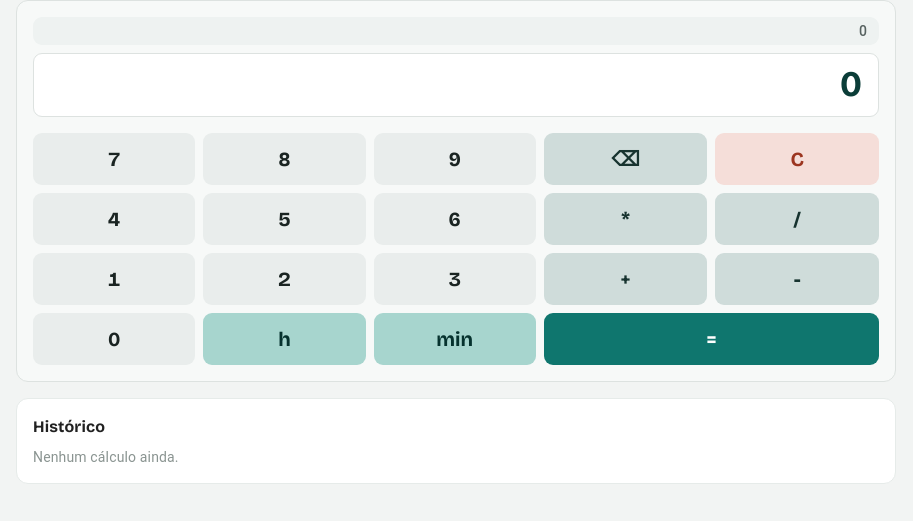
Test case: Calculadora › keeps the digit keys usable after a result with minutes
Type keys "2h30m+1h45m{Enter}"
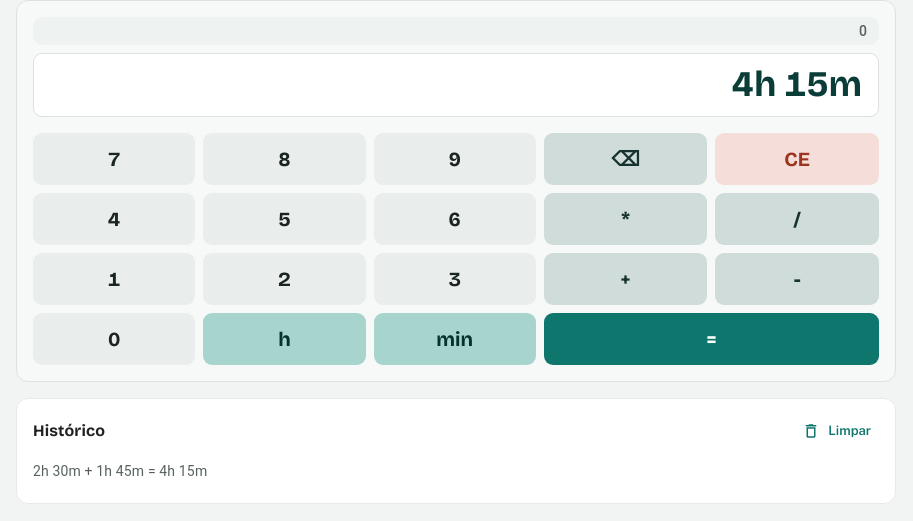
Click the button "7": click(114, 159) [33, 133, 195, 185]
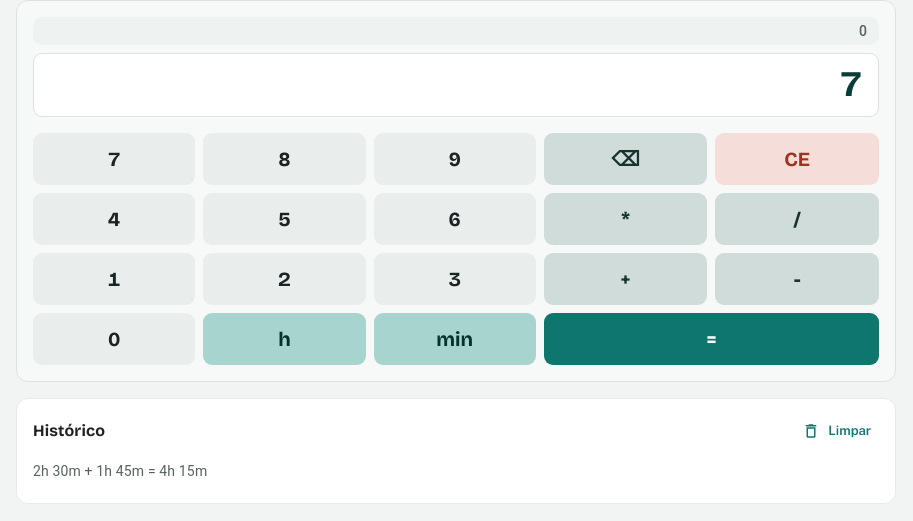
Now the text named "Resultado" reads "7", box [840, 63, 862, 106]
